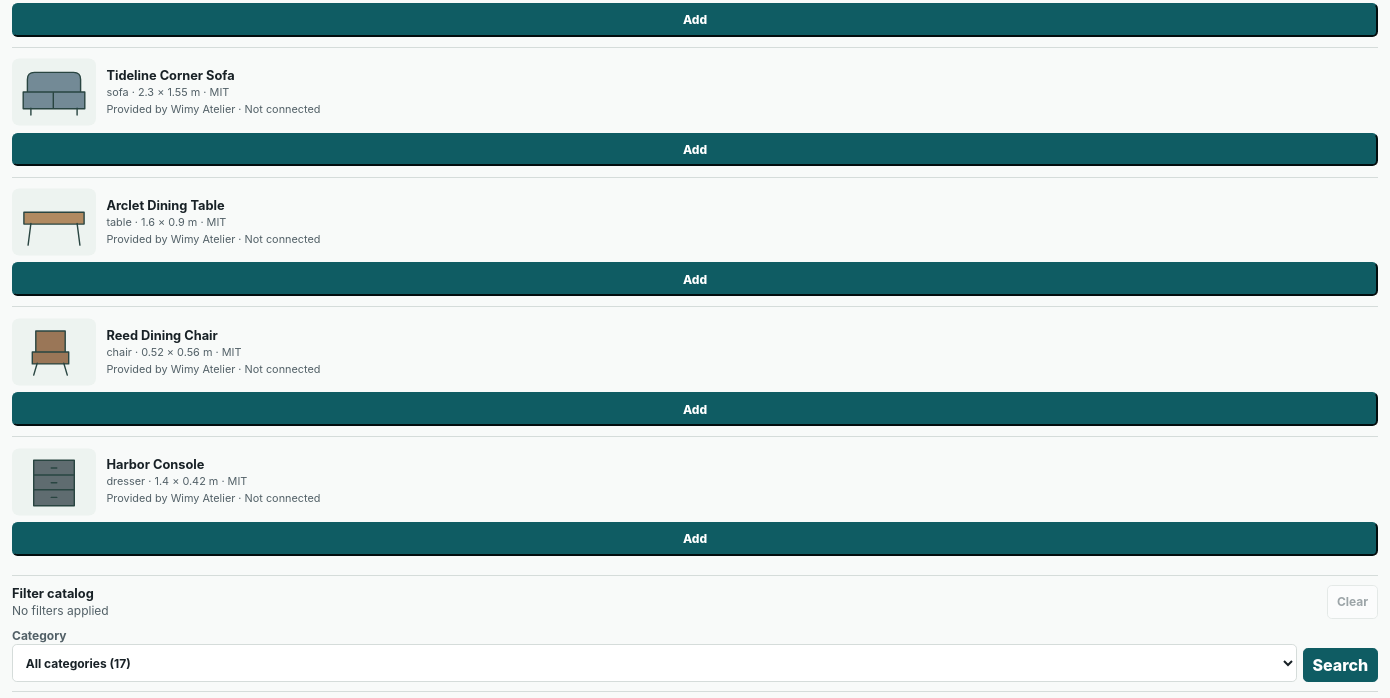
Test case: CatalogPanel › shows one continuous category-driven catalog without pagination
The width and height of the screenshot is (1390, 698).
(page scrolled)
Select "Sofa (3)" in the dropdown labelled "Category" at (655, 663), box [12,644,1297,682]
(page scrolled)
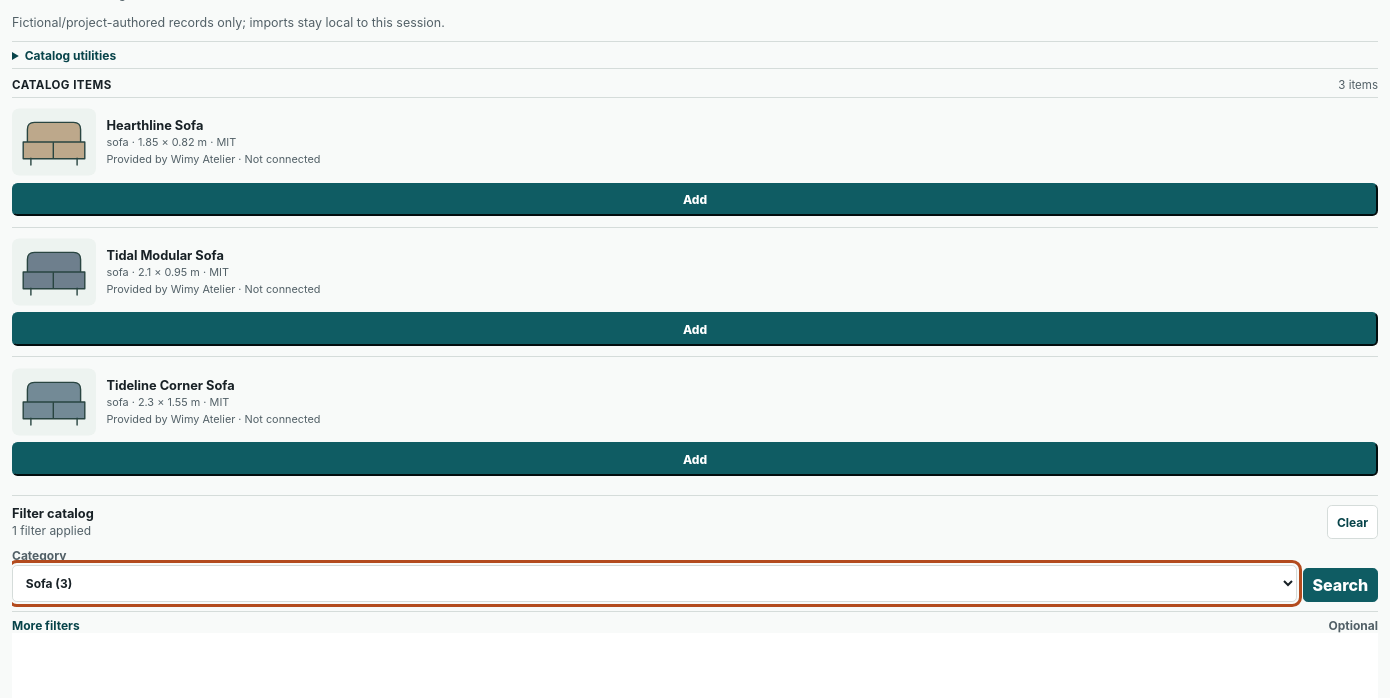
Expected: the text "Hearthline Sofa" is shown, [106,118,203,133]
Now the number of list items is 3, box [12,97,1378,227]; [12,227,1378,356]; [12,356,1378,486]
Now the text "3 items" is shown, box [1338,78,1378,92]
Click the text "More filters" at (46, 625), box [12,618,80,633]
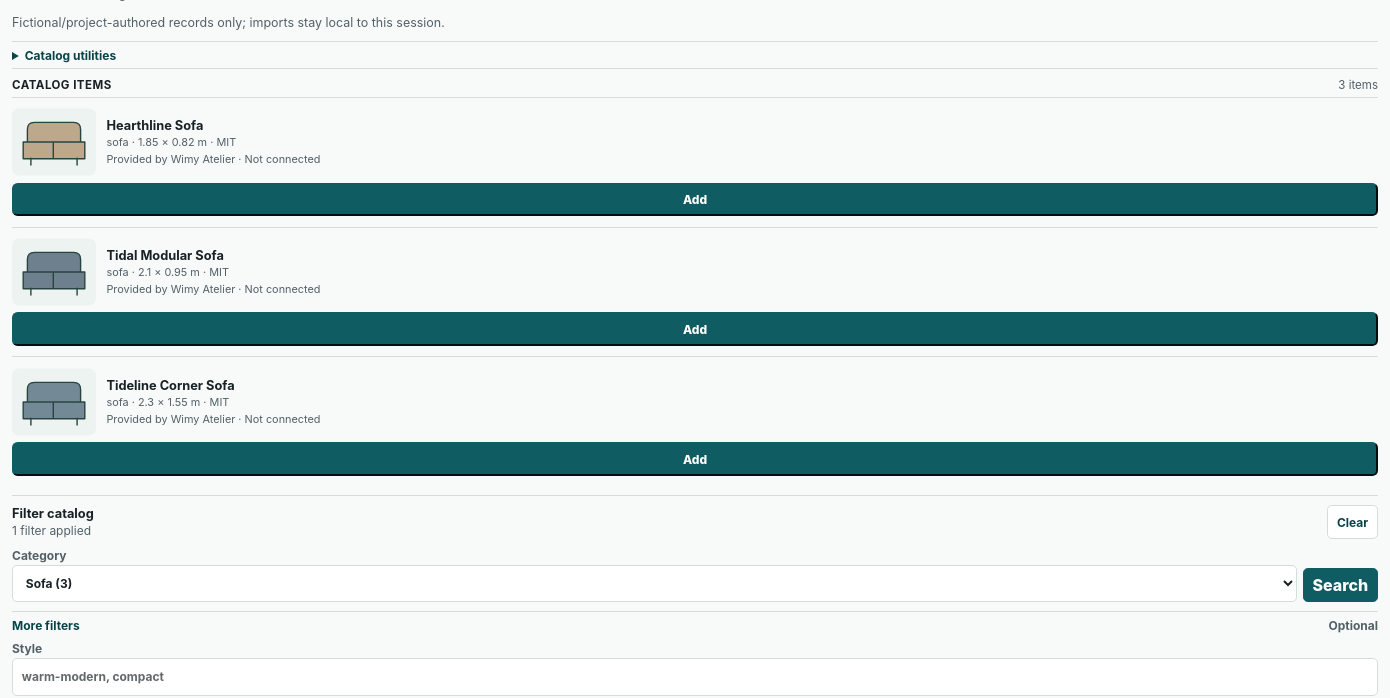
Now the field named "Style tags" is shown, box [12,658,1378,696]
